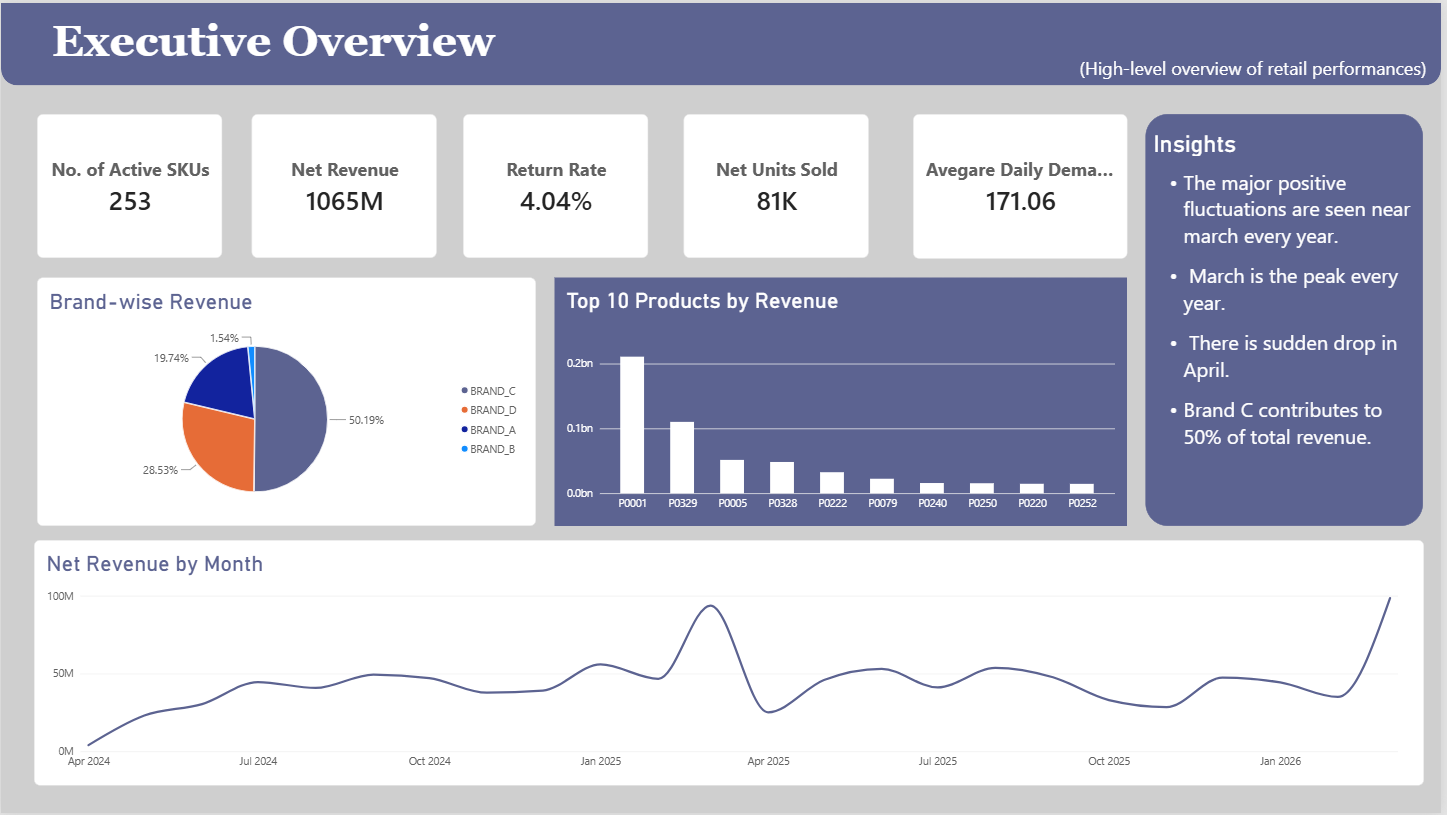

The page's visual inventory and layout, read from the dashboard file:
{"tool":"powerbi","page":{"name":"Page 1","canvas":[1920,1080],"ordinal":0},"visuals":[{"type":"shape","box":[0,0,1920,72.5],"z":0},{"type":"shape","box":[0,0,1920,110],"z":1000},{"type":"textbox","box":[67.5,15,625,80],"z":2000},{"type":"cardVisual","fields":{"Data":["Count(current_stocks.Product ID)"]},"box":[47.7,147.6,247.5,192.5],"z":3000},{"type":"cardVisual","fields":{"Data":["Sum(sales.Revenue)"]},"box":[333.9,147.6,247.5,192.5],"z":4000},{"type":"cardVisual","fields":{"Data":["Sum(sales.Units Sold)"]},"box":[910.8,147.6,247.5,192.5],"z":5000},{"type":"cardVisual","fields":{"Data":["sales.Return Rate"]},"box":[615.5,147.6,247.5,192.5],"z":6000},{"type":"lineChart","title":"Net Revenue by Month","fields":{"Category":["sales.Date.Variation.Date Hierarchy.Year","sales.Date.Variation.Date Hierarchy.Month"],"Y":["Sum(sales.Revenue)"]},"box":[43.2,715.5,1853.4,327.1],"z":7000},{"type":"pieChart","title":"Brand-wise Revenue","fields":{"Y":["Sum(sales.Revenue)"],"Category":["supplier.Brand"]},"box":[47.7,365.7,665.5,331.6],"z":8000},{"type":"lineStackedColumnComboChart","title":"Top 10 Products by Revenue","fields":{"Y":["Sum(sales.Revenue)"],"Category":["sales.Product ID"]},"box":[738.2,365.7,763.2,331.6],"z":9000},{"type":"cardVisual","fields":{"Data":["current_stocks.Avegare Daily Demand"]},"box":[1215.1,147.6,286.2,193.1],"z":10000},{"type":"textbox","title":"Insights","box":[1526.3,147.6,370.2,549.7],"z":11000},{"type":"textbox","box":[1438,70,482,40],"z":12000}]}

Visuals, with their boxes in screenshot pixels (x1, y1, x2, y2), scaled from the page's 1920x1080 canvas onto the 1447x815 screenshot:
shape: <box>0,0,1446,55</box>
shape: <box>0,0,1446,83</box>
textbox: <box>51,11,522,72</box>
cardVisual - Count(current_stocks.Product ID): <box>36,111,222,257</box>
cardVisual - Sum(sales.Revenue): <box>252,111,438,257</box>
cardVisual - Sum(sales.Units Sold): <box>686,111,873,257</box>
cardVisual - sales.Return Rate: <box>464,111,650,257</box>
"Net Revenue by Month" lineChart: <box>33,540,1429,787</box>
"Brand-wise Revenue" pieChart: <box>36,276,538,526</box>
"Top 10 Products by Revenue" lineStackedColumnComboChart: <box>556,276,1132,526</box>
cardVisual - current_stocks.Avegare Daily Demand: <box>916,111,1131,257</box>
"Insights" textbox: <box>1150,111,1429,526</box>
textbox: <box>1084,53,1446,83</box>
